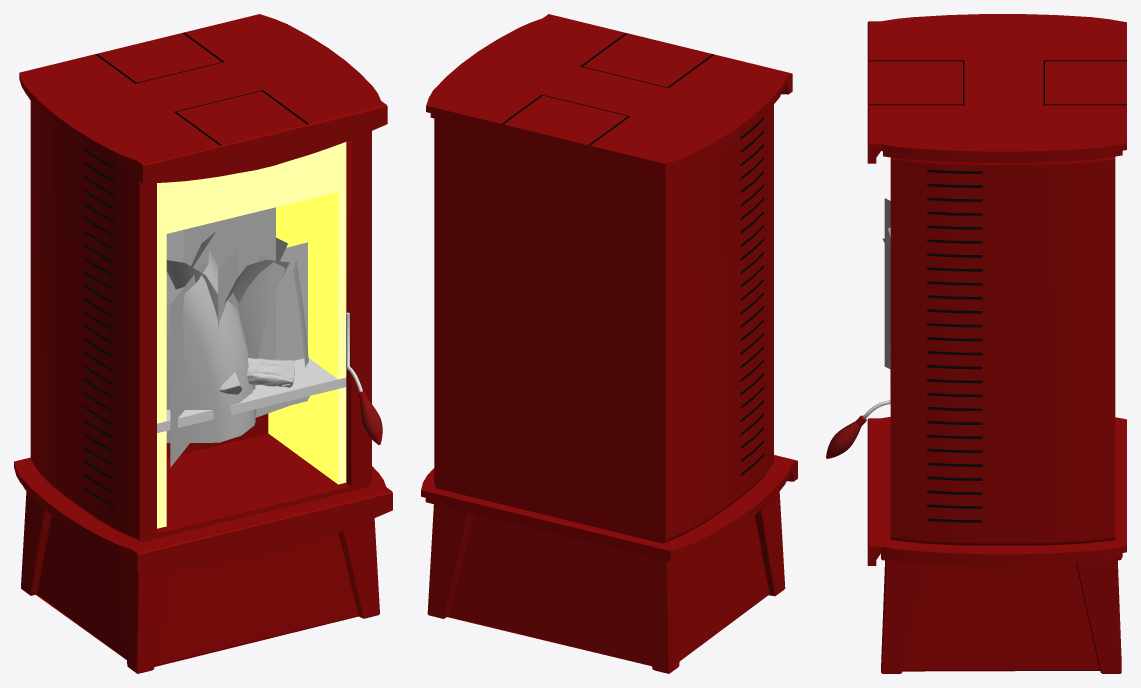
The model's file is stufa.gltf.
The picture shows the model from 3 angles, left to right: view 1: azimuth 30°, elevation 25°; view 2: azimuth 150°, elevation 25°; view 3: azimuth 270°, elevation 25°; orthographic projection. The views are drawn at different scales.
Parts seen in each view (by area): view 1: fusion_pellet_stove, modern_home_fireplace_1314_Fire, Cubo_1, Cubo_4, Cubo, Cubo_3, modern_home_fireplace_1314_Wood2; view 2: fusion_pellet_stove; view 3: fusion_pellet_stove, modern_home_fireplace_1314_Fire.
Part boxes in pixels (box(x1,y1,x2,y2)): fusion_pellet_stove: box(14, 14, 392, 673); modern_home_fireplace_1314_Fire: box(166, 207, 309, 467); Cubo_1: box(268, 142, 346, 484); Cubo_4: box(166, 145, 338, 233); Cubo: box(157, 182, 166, 528); Cubo_3: box(157, 358, 346, 432); modern_home_fireplace_1314_Wood2: box(219, 358, 294, 394); fusion_pellet_stove: box(421, 14, 797, 673); fusion_pellet_stove: box(826, 14, 1126, 673); modern_home_fireplace_1314_Fire: box(882, 198, 890, 368).
Bounding box in the file's own units: 0.6911 × 1.19 × 0.6124.
